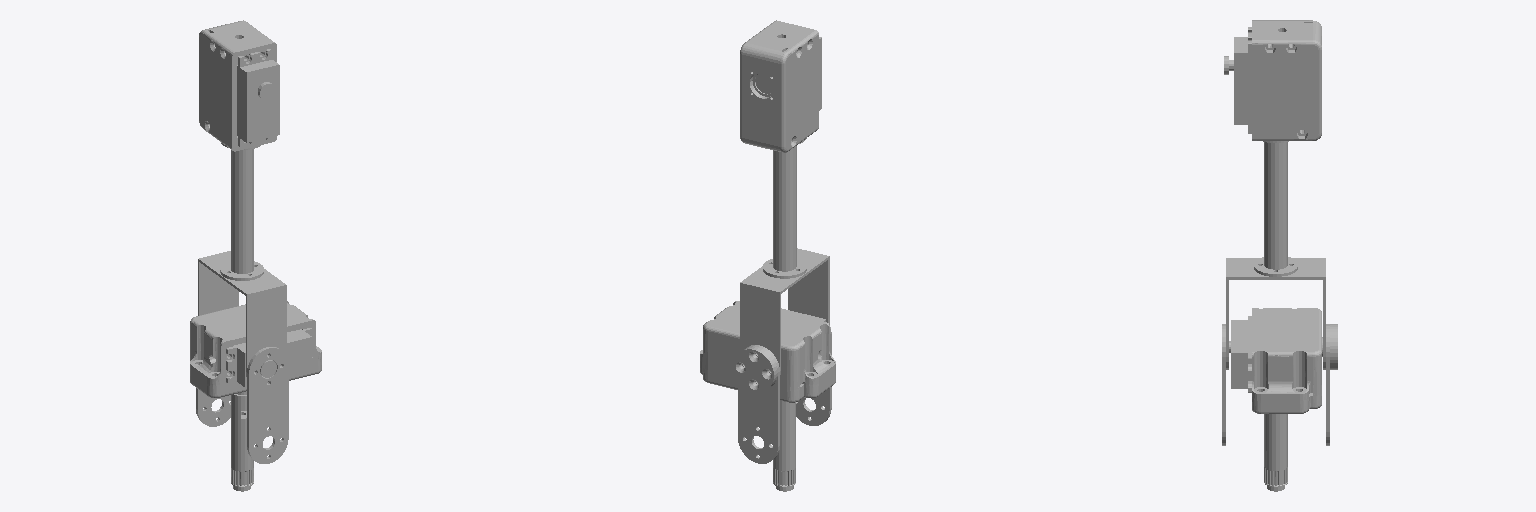
URDF robot description (sr_ronex_arm_description):
<robot
  name="sr_ronex_arm_description">
  <link
    name="base_link">
    <inertial>
      <origin
        xyz="0.00431431515775475 -4.82549562735761E-05 0.0227068015933145"
        rpy="0 0 0" />
      <mass
        value="0.821908263229317" />
      <inertia
        ixx="0.00129707558736385"
        ixy="-2.23072860798812E-06"
        ixz="0.000115143874936511"
        iyy="0.00291698875077821"
        iyz="-2.24132448078072E-06"
        izz="0.00334694654156924" />
    </inertial>
    <visual>
      <origin
        xyz="0 0 0"
        rpy="0 0 0" />
      <geometry>
        <mesh
          filename="package://sr_ronex_arm_description/meshes/base_link.STL" />
      </geometry>
      <material
        name="">
        <color
          rgba="0.752941176470588 0.752941176470588 0.752941176470588 1" />
      </material>
    </visual>
    <collision>
      <origin
        xyz="0 0 0"
        rpy="0 0 0" />
      <geometry>
        <mesh
          filename="package://sr_ronex_arm_description/meshes/base_link.STL" />
      </geometry>
    </collision>
  </link>
  <link
    name="link_1">
    <inertial>
      <origin
        xyz="0.00868682800921774 0.00178915948487049 -0.00658209744759772"
        rpy="0 0 0" />
      <mass
        value="0.0834821063345965" />
      <inertia
        ixx="3.58069947364421E-05"
        ixy="5.38422626528829E-07"
        ixz="2.71877837678979E-06"
        iyy="4.65879290649884E-05"
        iyz="-8.47147727781336E-08"
        izz="3.55218001826396E-05" />
    </inertial>
    <visual>
      <origin
        xyz="0 0 0"
        rpy="0 0 0" />
      <geometry>
        <mesh
          filename="package://sr_ronex_arm_description/meshes/link_1.STL" />
      </geometry>
      <material
        name="">
        <color
          rgba="0.752941176470588 0.752941176470588 0.752941176470588 1" />
      </material>
    </visual>
    <collision>
      <origin
        xyz="0 0 0"
        rpy="0 0 0" />
      <geometry>
        <mesh
          filename="package://sr_ronex_arm_description/meshes/link_1.STL" />
      </geometry>
    </collision>
  </link>
  <joint
    name="joint_1"
    type="revolute">
    <origin
      xyz="0 0 0.152"
      rpy="0 0 0" />
    <parent
      link="base_link" />
    <child
      link="link_1" />
    <axis
      xyz="0 0 -1" />
    <limit
      lower="-2.3"
      upper="2.3"
      effort="0"
      velocity="3" />
    <safety_controller
      soft_upper="2"
      soft_lower="-2"
      k_velocity="0" />
  </joint>
  <link
    name="link_2">
    <inertial>
      <origin
        xyz="0.000199465897160275 0.00169993554992982 0.122759342602549"
        rpy="0 0 0" />
      <mass
        value="0.0794780466261019" />
      <inertia
        ixx="0.000329894874250509"
        ixy="8.03290909316488E-08"
        ixz="5.33495111000055E-07"
        iyy="0.000315402825894609"
        iyz="-6.80299186206687E-06"
        izz="2.36432665075105E-05" />
    </inertial>
    <visual>
      <origin
        xyz="0 0 0"
        rpy="0 0 0" />
      <geometry>
        <mesh
          filename="package://sr_ronex_arm_description/meshes/link_2.STL" />
      </geometry>
      <material
        name="">
        <color
          rgba="0.752941176470588 0.752941176470588 0.752941176470588 1" />
      </material>
    </visual>
    <collision>
      <origin
        xyz="0 0 0"
        rpy="0 0 0" />
      <geometry>
        <mesh
          filename="package://sr_ronex_arm_description/meshes/link_2.STL" />
      </geometry>
    </collision>
  </link>
  <joint
    name="joint_2"
    type="revolute">
    <origin
      xyz="0 0 0"
      rpy="0 0 0" />
    <parent
      link="link_1" />
    <child
      link="link_2" />
    <axis
      xyz="0 -1 0" />
    <limit
      lower="-1.57"
      upper="2.36"
      effort="0"
      velocity="3" />
    <safety_controller
      soft_upper="2.3"
      soft_lower="-1.5"
      k_velocity="0" />
  </joint>
  <link
    name="link_3">
    <inertial>
      <origin
        xyz="0.0056583258459365 0.0231553566471397 0.0438832137311302"
        rpy="0 0 0" />
      <mass
        value="0.054724496035801" />
      <inertia
        ixx="7.50816784370508E-05"
        ixy="3.69507378823013E-06"
        ixz="4.97637562029335E-06"
        iyy="5.54358879237017E-05"
        iyz="1.6188112296012E-05"
        izz="3.57616734021639E-05" />
    </inertial>
    <visual>
      <origin
        xyz="0 0 0"
        rpy="0 0 0" />
      <geometry>
        <mesh
          filename="package://sr_ronex_arm_description/meshes/link_3.STL" />
      </geometry>
      <material
        name="">
        <color
          rgba="0.752941176470588 0.752941176470588 0.752941176470588 1" />
      </material>
    </visual>
    <collision>
      <origin
        xyz="0 0 0"
        rpy="0 0 0" />
      <geometry>
        <mesh
          filename="package://sr_ronex_arm_description/meshes/link_3.STL" />
      </geometry>
    </collision>
  </link>
  <joint
    name="joint_3"
    type="revolute">
    <origin
      xyz="0 0 0.16462"
      rpy="0 0 0" />
    <parent
      link="link_2" />
    <child
      link="link_3" />
    <axis
      xyz="0 -1 0" />
    <limit
      lower="-2.4"
      upper="2.4"
      effort="0"
      velocity="3" />
    <safety_controller
      soft_upper="-2.2"
      soft_lower="-2.2"
      k_velocity="0" />
  </joint>
  <link
    name="link_4">
    <inertial>
      <origin
        xyz="1.95739353628606E-10 -0.00945657475751274 0.0302568917634391"
        rpy="0 0 0" />
      <mass
        value="0.0429933251414589" />
      <inertia
        ixx="1.55316236023492E-05"
        ixy="2.3325723388825E-13"
        ixz="-4.06466919320175E-13"
        iyy="7.63185892306623E-06"
        iyz="2.2243105223589E-07"
        izz="1.12000446776496E-05" />
    </inertial>
    <visual>
      <origin
        xyz="0 0 0"
        rpy="0 0 0" />
      <geometry>
        <mesh
          filename="package://sr_ronex_arm_description/meshes/link_4.STL" />
      </geometry>
      <material
        name="">
        <color
          rgba="0.752941176470588 0.752941176470588 0.752941176470588 1" />
      </material>
    </visual>
    <collision>
      <origin
        xyz="0 0 0"
        rpy="0 0 0" />
      <geometry>
        <mesh
          filename="package://sr_ronex_arm_description/meshes/link_4.STL" />
      </geometry>
    </collision>
  </link>
  <joint
    name="joint_4"
    type="revolute">
    <origin
      xyz="0 0 0.06065"
      rpy="0 0 0" />
    <parent
      link="link_3" />
    <child
      link="link_4" />
    <axis
      xyz="0 -1 0" />
    <limit
      lower="-1.5"
      upper="1.5"
      effort="0"
      velocity="3" />
    <safety_controller
      soft_upper="1.5"
      soft_lower="-1.5"
      k_velocity="0" />
  </joint>
  <link
    name="link_5">
    <inertial>
      <origin
        xyz="0.00740295924853003 4.31056478543821E-05 0.0106517952431207"
        rpy="0 0 0" />
      <mass
        value="0.0577365107371118" />
      <inertia
        ixx="1.71055631297659E-05"
        ixy="-5.64071211609215E-08"
        ixz="4.197477893917E-08"
        iyy="9.32173830107371E-06"
        iyz="2.44409023334954E-10"
        izz="2.23182862633664E-05" />
    </inertial>
    <visual>
      <origin
        xyz="0 0 0"
        rpy="0 0 0" />
      <geometry>
        <mesh
          filename="package://sr_ronex_arm_description/meshes/link_5.STL" />
      </geometry>
      <material
        name="">
        <color
          rgba="0.752941176470588 0.752941176470588 0.752941176470588 1" />
      </material>
    </visual>
    <collision>
      <origin
        xyz="0 0 0"
        rpy="0 0 0" />
      <geometry>
        <mesh
          filename="package://sr_ronex_arm_description/meshes/link_5.STL" />
      </geometry>
    </collision>
  </link>
  <joint
    name="joint_5"
    type="revolute">
    <origin
      xyz="0 0 0.056"
      rpy="0 0 0" />
    <parent
      link="link_4" />
    <child
      link="link_5" />
    <axis
      xyz="0 0 -1" />
    <limit
      lower="-1.5"
      upper="1.5"
      effort="0"
      velocity="3" />
    <safety_controller
      soft_upper="1.5"
      soft_lower="-1.5"
      k_velocity="0" />
  </joint>
  <link
    name="tooth_1">
    <inertial>
      <origin
        xyz="1.4256505650009E-18 -0.0042 0.01"
        rpy="0 0 0" />
      <mass
        value="0.0028125" />
      <inertia
        ixx="1.510125E-07"
        ixy="2.13037781823618E-23"
        ixz="-5.83550072762019E-23"
        iyy="1.81640625E-07"
        iyz="2.32031249999999E-08"
        izz="7.4840625E-08" />
    </inertial>
    <visual>
      <origin
        xyz="0 0 0"
        rpy="0 0 0" />
      <geometry>
        <mesh
          filename="package://sr_ronex_arm_description/meshes/tooth_1.STL" />
      </geometry>
      <material
        name="">
        <color
          rgba="0.792156862745098 0.819607843137255 0.933333333333333 1" />
      </material>
    </visual>
    <collision>
      <origin
        xyz="0 0 0"
        rpy="0 0 0" />
      <geometry>
        <mesh
          filename="package://sr_ronex_arm_description/meshes/tooth_1.STL" />
      </geometry>
    </collision>
  </link>
  <joint
    name="gripper"
    type="prismatic">
    <origin
      xyz="0 0 0.021"
      rpy="0 0 0" />
    <parent
      link="link_5" />
    <child
      link="tooth_1" />
    <axis
      xyz="0 -1 0" />
    <limit
      lower="0"
      upper="0.016"
      effort="0"
      velocity="0.05" />
  </joint>
  <link
    name="tooth_2">
    <inertial>
      <origin
        xyz="-5.61540492382229E-18 0.0042 0.0100000000000001"
        rpy="0 0 0" />
      <mass
        value="0.00281250000000001" />
      <inertia
        ixx="1.51012500000001E-07"
        ixy="2.77027957022837E-23"
        ixz="2.38460660962552E-23"
        iyy="1.81640625000001E-07"
        iyz="-2.32031250000001E-08"
        izz="7.48406250000002E-08" />
    </inertial>
    <visual>
      <origin
        xyz="0 0 0"
        rpy="0 0 0" />
      <geometry>
        <mesh
          filename="package://sr_ronex_arm_description/meshes/tooth_2.STL" />
      </geometry>
      <material
        name="">
        <color
          rgba="0.792156862745098 0.819607843137255 0.933333333333333 1" />
      </material>
    </visual>
    <collision>
      <origin
        xyz="0 0 0"
        rpy="0 0 0" />
      <geometry>
        <mesh
          filename="package://sr_ronex_arm_description/meshes/tooth_2.STL" />
      </geometry>
    </collision>
  </link>
  <joint
    name="gripper_2"
    type="prismatic">
    <origin
      xyz="0 0 0.021"
      rpy="0 0 0" />
    <parent
      link="link_5" />
    <child
      link="tooth_2" />
    <axis
      xyz="0 1 0" />
    <limit
      lower="0"
      upper="0.016"
      effort="0"
      velocity="0.05" />
    <mimic joint="gripper" multiplier="1" offset="0"/>
  </joint>
</robot>

--- Render facts (derived) ---
Views: 3 orthographic renders of the robot side by side, from view 1: azimuth 30°, elevation 25°; view 2: azimuth 150°, elevation 25°; view 3: azimuth 270°, elevation 25°.
Model sr_ronex_arm_description with 8 links and 7 joints (5 revolute, 2 prismatic), rooted at base_link, posed all joints at 0.
Links seen in each view (by area): view 1: link_2, link_1; view 2: link_2, link_1; view 3: link_2, link_1.
Boxes of the visible links, bbox=[...] form: link_2: bbox=[196, 20, 288, 463]; link_1: bbox=[190, 301, 321, 491]; link_2: bbox=[734, 20, 831, 463]; link_1: bbox=[700, 301, 835, 491]; link_2: bbox=[1222, 20, 1337, 445]; link_1: bbox=[1229, 308, 1321, 491].
Bounding box of the posed robot: 0.071 × 0.0617 × 0.2673 m (x, y, z).
2 mesh visuals loaded from 8 distinct referenced files (2 binary STL); not drawn: 6 (reference not matched to a file when rendering).